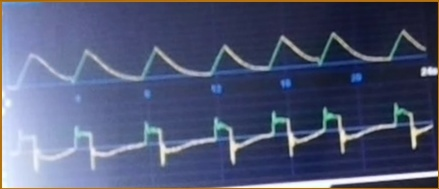Accumulation Flow: (12, 102, 432, 171)
Volume: (10, 26, 425, 92)
